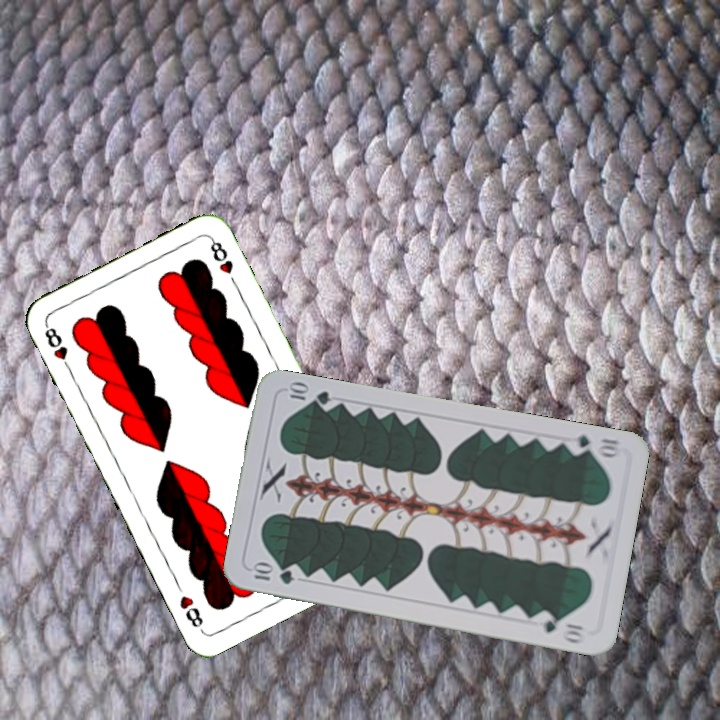G10: (563, 431, 624, 460), (247, 561, 296, 587)
H8: (40, 320, 75, 375)
